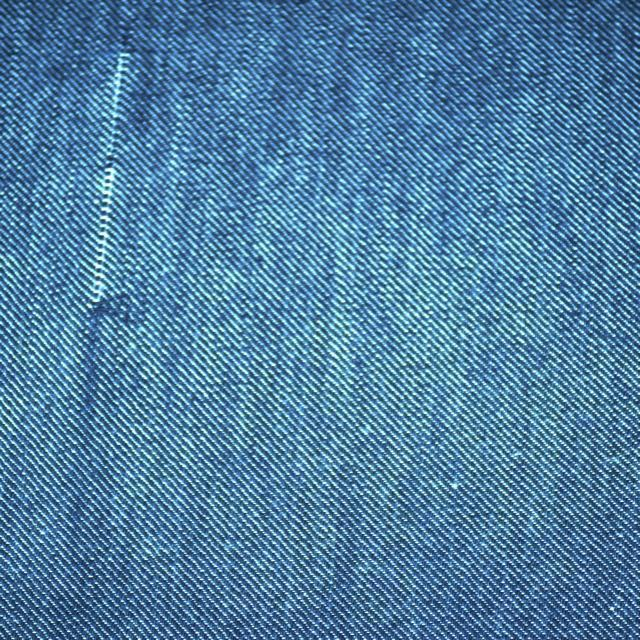Line: (79, 31, 136, 429)
